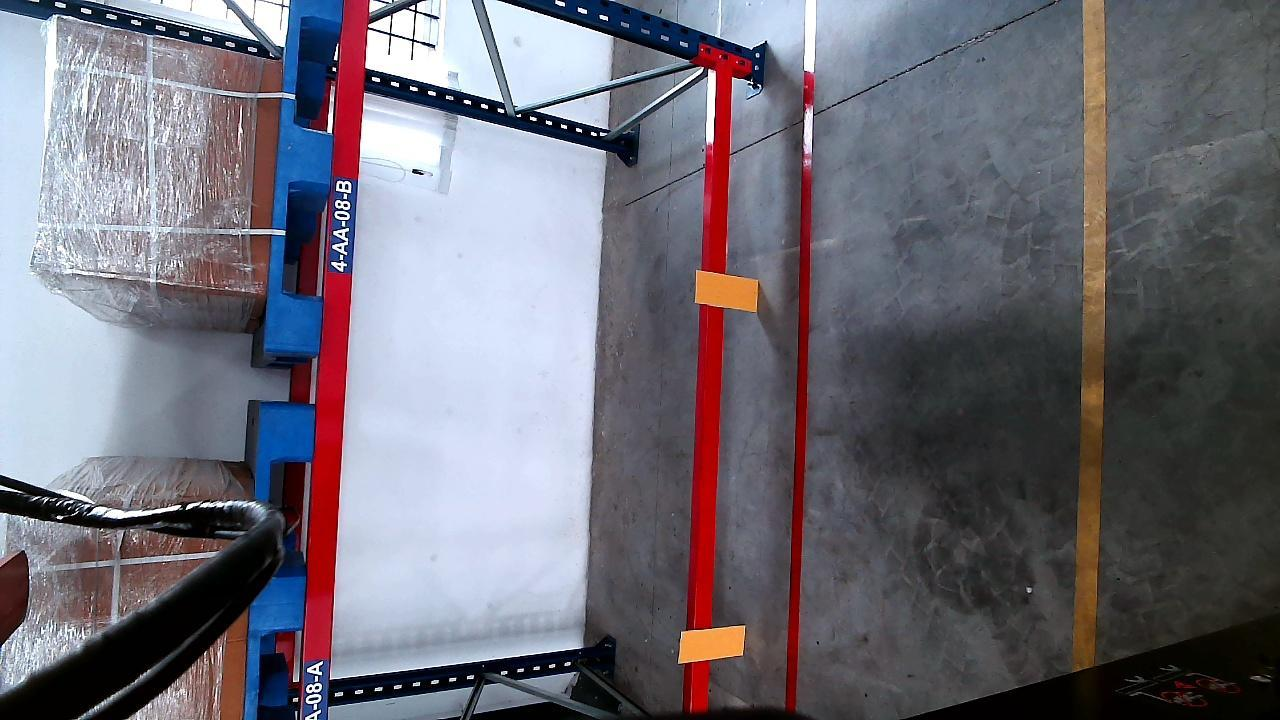red_line: (785, 1, 817, 706)
